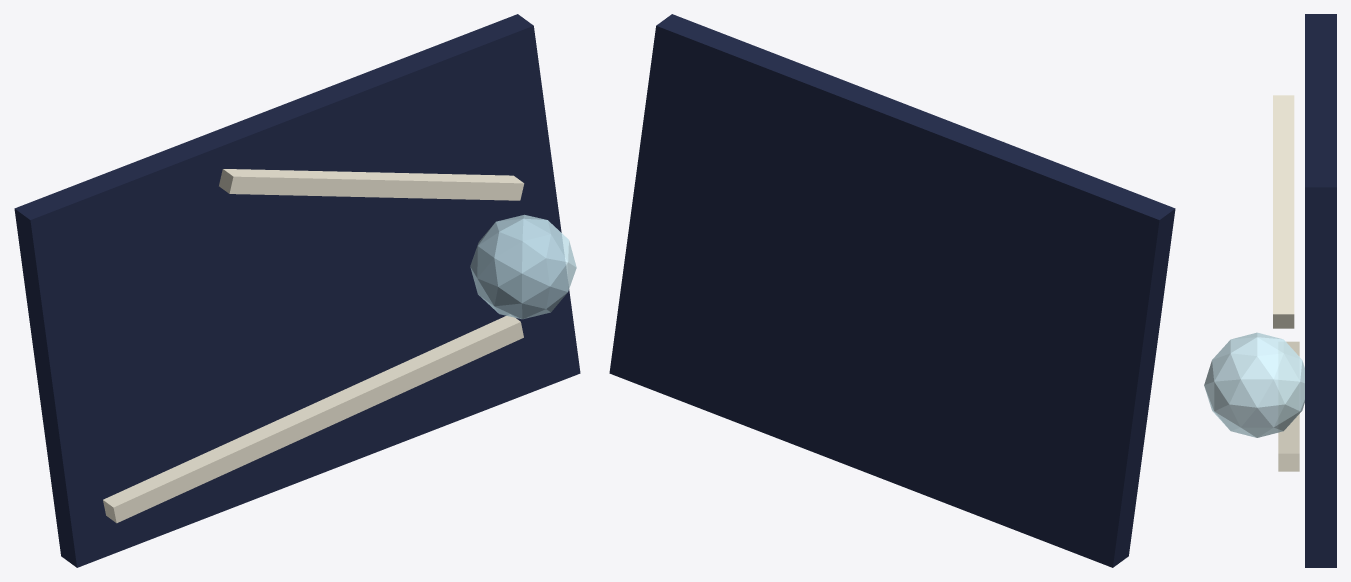
The model's file is 02_world_prop_polish.glb.
3 renders of one model, left to right at view 1: azimuth 30°, elevation 25°; view 2: azimuth 150°, elevation 25°; view 3: azimuth 270°, elevation 25°, orthographic.
Parts seen in each view (by area): view 1: object_overlay_plate, edge_wear_a, glow_socket, edge_wear_b; view 2: object_overlay_plate; view 3: object_overlay_plate, glow_socket, edge_wear_b, edge_wear_a.
Boxes of the visible parts, bbox=[...] form: object_overlay_plate: bbox=[14, 14, 580, 567]; edge_wear_a: bbox=[103, 315, 523, 523]; glow_socket: bbox=[470, 214, 576, 319]; edge_wear_b: bbox=[219, 169, 524, 200]; object_overlay_plate: bbox=[609, 14, 1175, 567]; object_overlay_plate: bbox=[1305, 14, 1336, 567]; glow_socket: bbox=[1204, 332, 1304, 437]; edge_wear_b: bbox=[1273, 95, 1294, 328]; edge_wear_a: bbox=[1278, 341, 1299, 471].
Size of the model in its own units: 1.19 by 0.8914 by 0.25.
